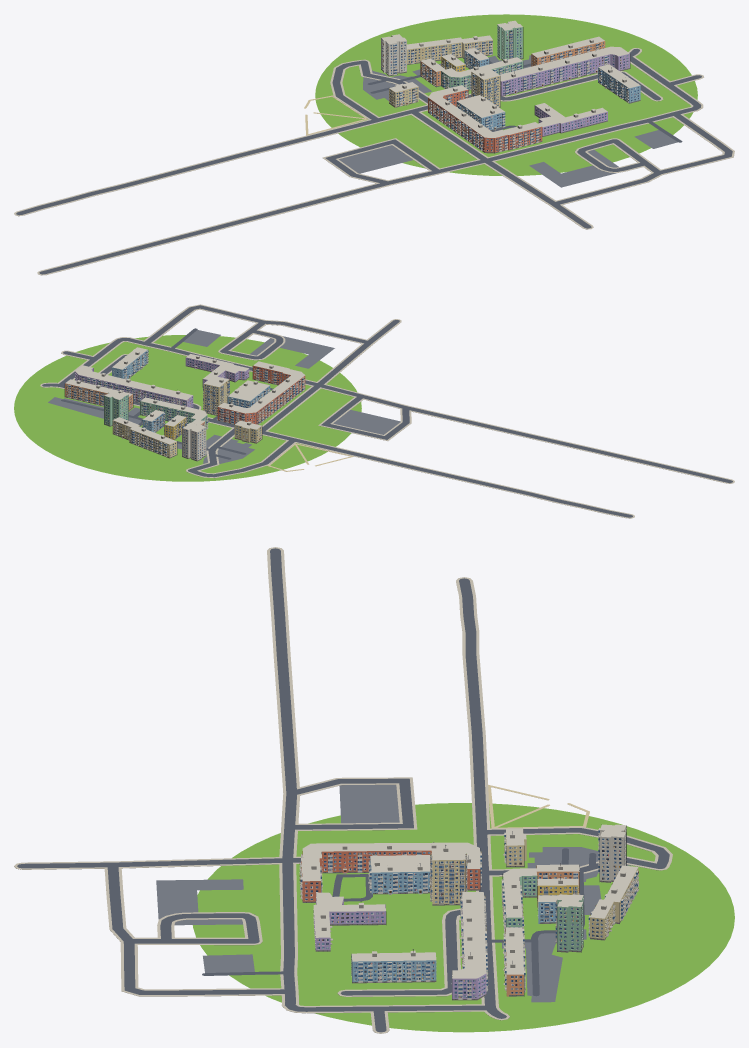
Rendered from corner.glb.
3 views of the same model, one above another, from view 1: azimuth 30°, elevation 25°; view 2: azimuth 150°, elevation 25°; view 3: azimuth 270°, elevation 25° (orthographic). The views are drawn at different scales.
Visible parts, largest first — view 1: ground.001, roads.001, sidewalks.001, block_1159458638, block_1159458637, block_1303934060, block_664422325, block_664422323, block_664422331, block_1303934048, block_1303934057, block_1303934055 (+4 smaller); view 2: ground.001, roads.001, sidewalks.001, block_1159458638, block_1159458637, block_1303934060, block_664422325, block_1303934057, block_1303934048, block_1303934055, block_664422324, block_664422323 (+5 smaller); view 3: ground.001, roads.001, sidewalks.001, block_1159458638, block_1159458637, block_664422331, block_664422323, block_664422325, block_664422324, block_1303934060, block_1303934048, block_1303934056 (+3 smaller).
Part boxes in pixels (x1,y1,x2,y2): ground.001: (315,14,697,187); roads.001: (16,48,732,274); sidewalks.001: (14,48,734,275); block_1159458638: (428,85,542,153); block_1159458637: (499,46,630,96); block_1303934060: (407,35,492,64); block_664422325: (534,103,607,136); block_664422323: (456,95,505,130); block_664422331: (598,64,640,103); block_1303934048: (441,57,523,90); block_1303934057: (531,36,605,66); block_1303934055: (381,34,406,76); ground.001: (14,330,400,481); roads.001: (42,305,732,517); sidewalks.001: (40,304,734,518); block_1159458638: (217,361,305,424); block_1159458637: (75,365,193,407); block_1303934060: (112,417,177,458); block_664422325: (185,354,249,387); block_1303934057: (64,379,133,410); block_1303934048: (140,397,208,429); block_1303934055: (182,422,206,461); block_664422324: (203,376,229,415); block_664422323: (227,380,270,407); ground.001: (156,785,734,1032); roads.001: (17,548,669,1032); sidewalks.001: (14,547,672,1033); block_1159458638: (299,842,481,902); block_1159458637: (451,892,488,1000); block_664422331: (351,949,436,983); block_664422323: (368,855,429,894); block_664422325: (313,892,386,951); block_664422324: (430,845,467,905); block_1303934060: (588,865,639,940); block_1303934048: (501,868,537,934); block_1303934056: (555,894,583,952).
Size of the model in its own units: 742 by 37.15 by 465.
